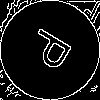P: (25, 25, 81, 78)
